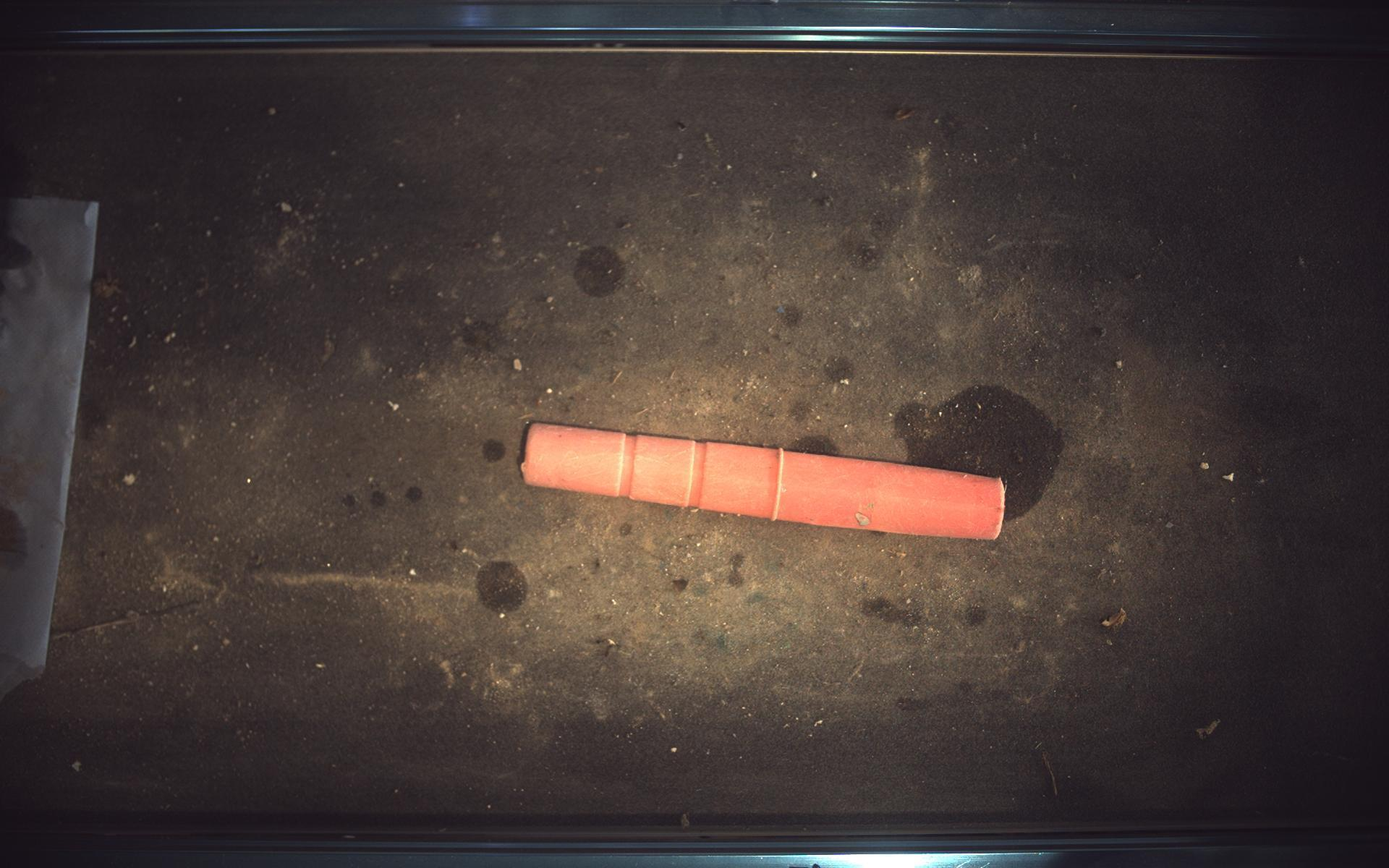plastic: (522, 423, 1007, 540)
